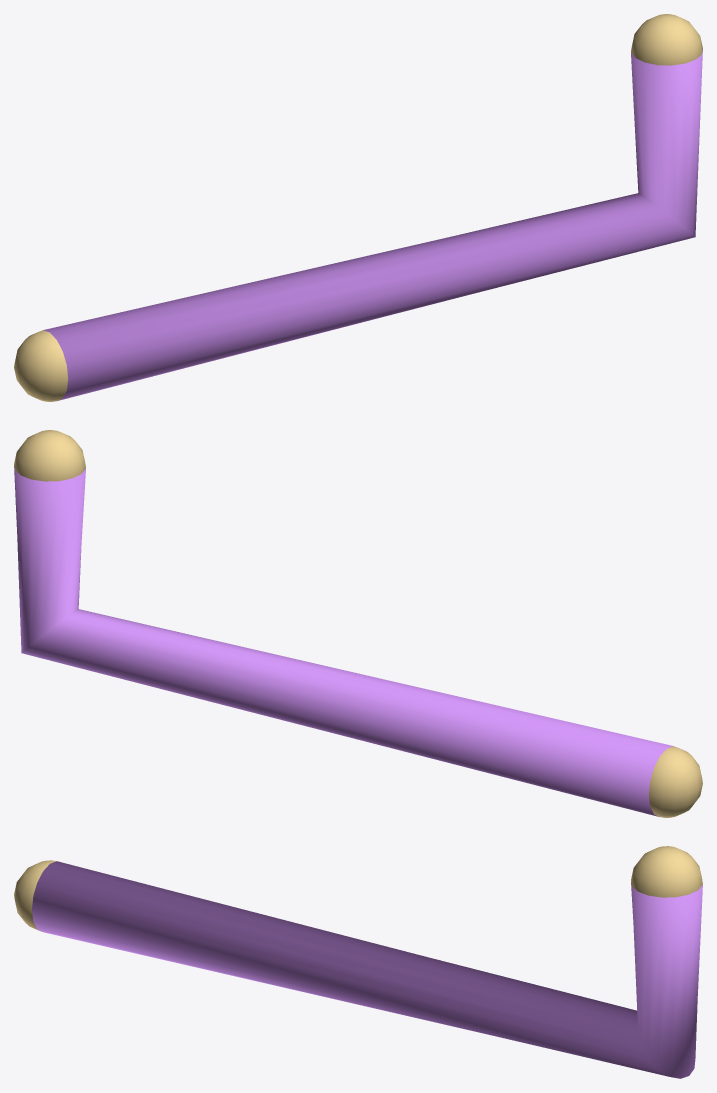
File: elbow-pin-DopVx34h.glb
3 renders of one model, top to bottom at view 1: azimuth 30°, elevation 25°; view 2: azimuth 150°, elevation 25°; view 3: azimuth 330°, elevation 25°, orthographic.
Parts seen in each view (by area): view 1: R3D_elbow-pin_Body_0, R3D_elbow-pin_Tip_0, R3D_elbow-pin_Tip_1; view 2: R3D_elbow-pin_Body_0, R3D_elbow-pin_Tip_0, R3D_elbow-pin_Tip_1; view 3: R3D_elbow-pin_Body_0, R3D_elbow-pin_Tip_1, R3D_elbow-pin_Tip_0.
Part boxes in pixels (bbox=[...]): R3D_elbow-pin_Body_0: bbox=[43, 49, 702, 400]; R3D_elbow-pin_Tip_0: bbox=[14, 330, 68, 401]; R3D_elbow-pin_Tip_1: bbox=[631, 14, 702, 65]; R3D_elbow-pin_Body_0: bbox=[14, 465, 673, 816]; R3D_elbow-pin_Tip_0: bbox=[648, 746, 702, 817]; R3D_elbow-pin_Tip_1: bbox=[14, 430, 85, 481]; R3D_elbow-pin_Body_0: bbox=[32, 861, 702, 1078]; R3D_elbow-pin_Tip_1: bbox=[631, 846, 702, 897]; R3D_elbow-pin_Tip_0: bbox=[14, 860, 56, 931].
Bounding box in the file's own units: 2.59 × 0.84 × 0.24.
